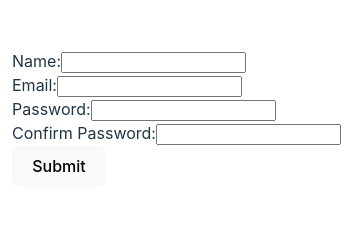
Test: UserRegistrationForm › displays error message for password confirmation mismatch
Type "password123" into the password field labelled "Password:" at coordinates (183, 111), box [91,100,276,121]
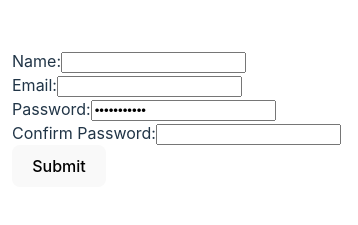
Type "password456" into the password field labelled "Confirm Password:" at coordinates (248, 135), box [156,124,341,145]
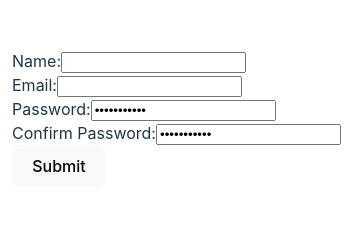
Click the button "Submit" at coordinates (59, 166), box [12,145,106,187]
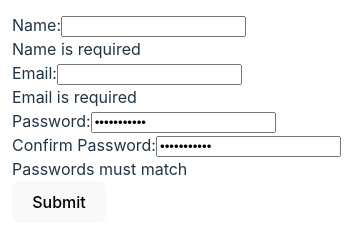
expect the text "Passwords must match" is shown: met, box [12,159,187,179]
